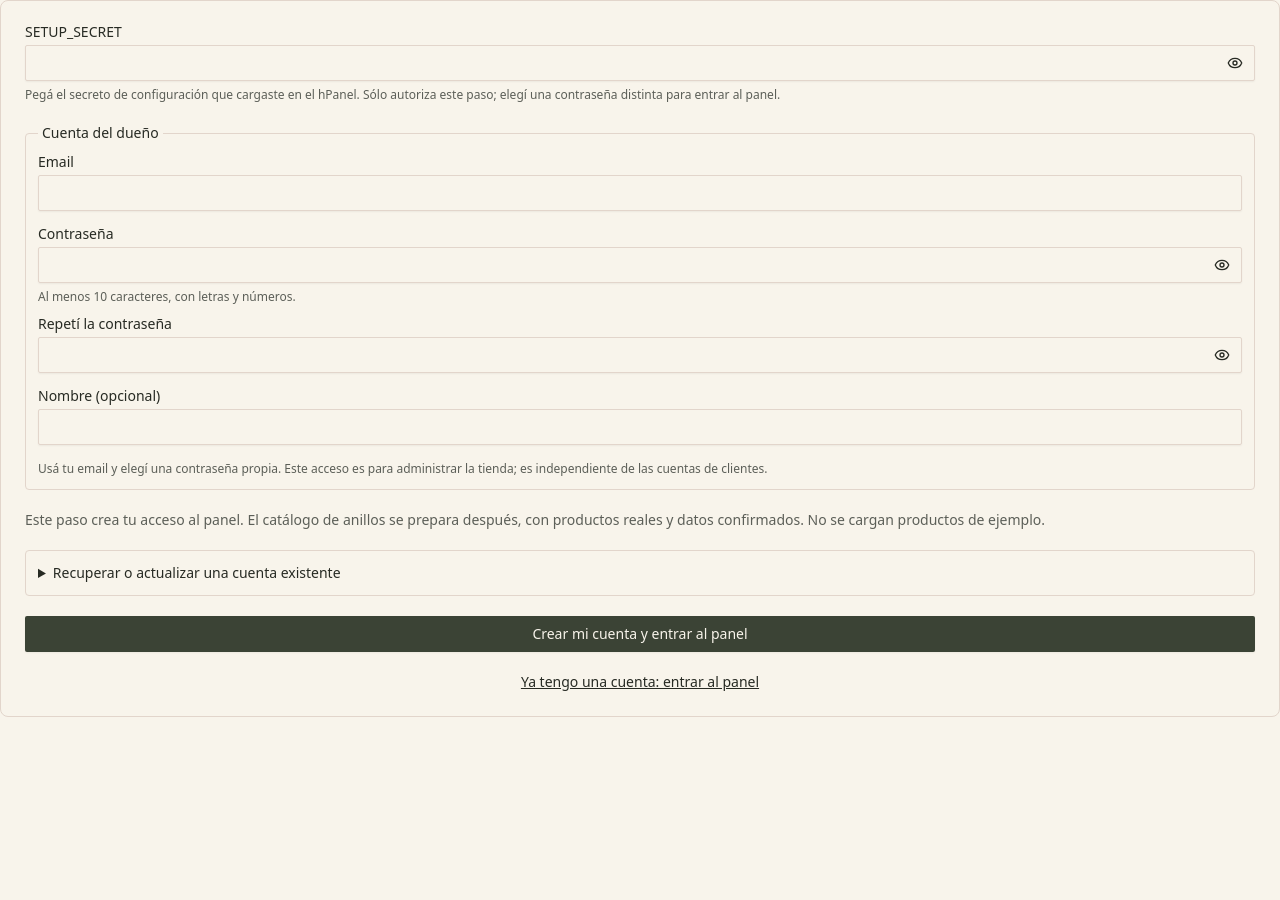
setup › never signs in after a rejected or unconfirmed setup ({"error":"unauthorized"})
The image size is (1280, 900).
Type "setup-secret-for-ui-test" into the password field labelled "SETUP_SECRET" at [640, 63], box [25,45,1255,81]
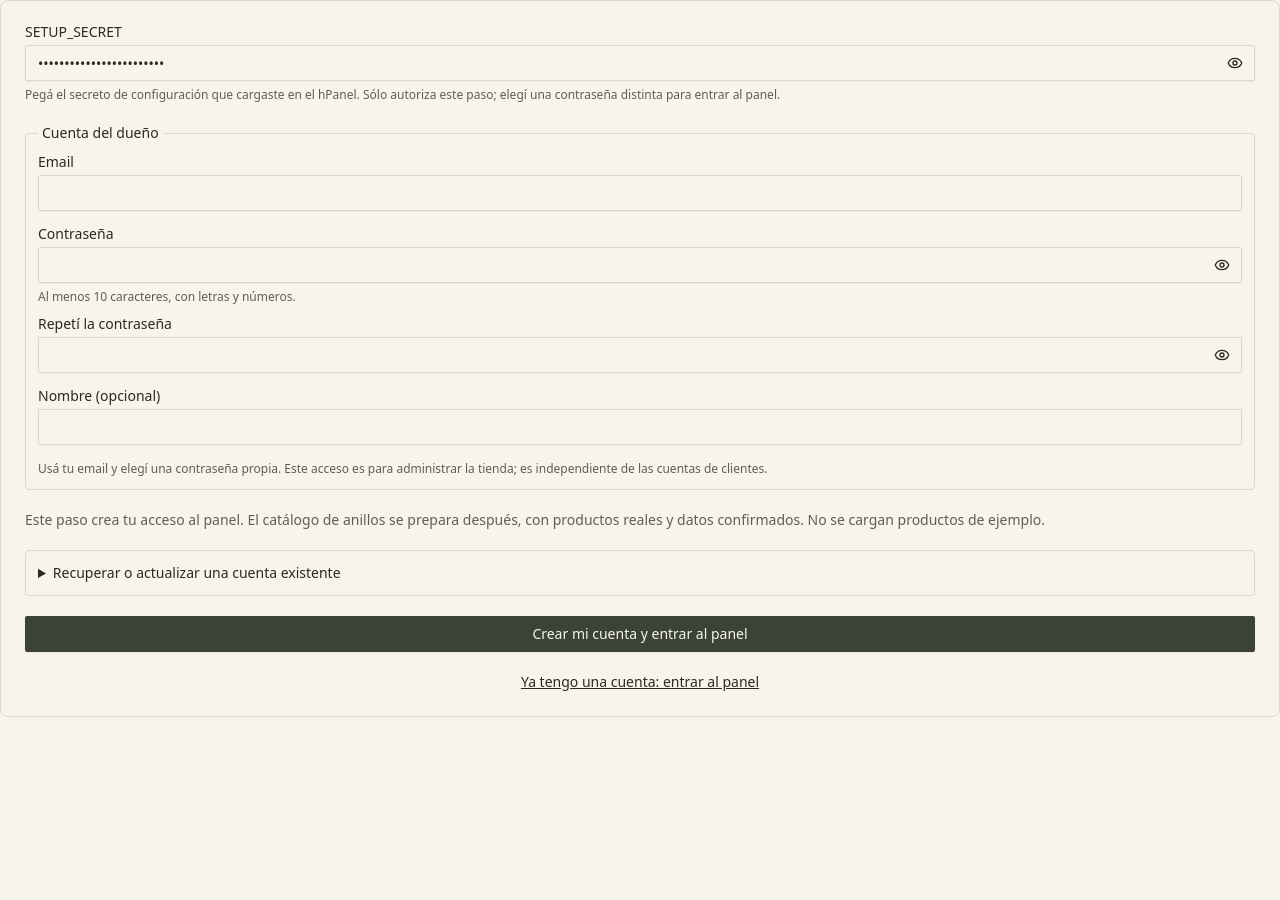
Type "owner@example.test" into the field labelled "Email" at [640, 193], box [38,175,1242,211]
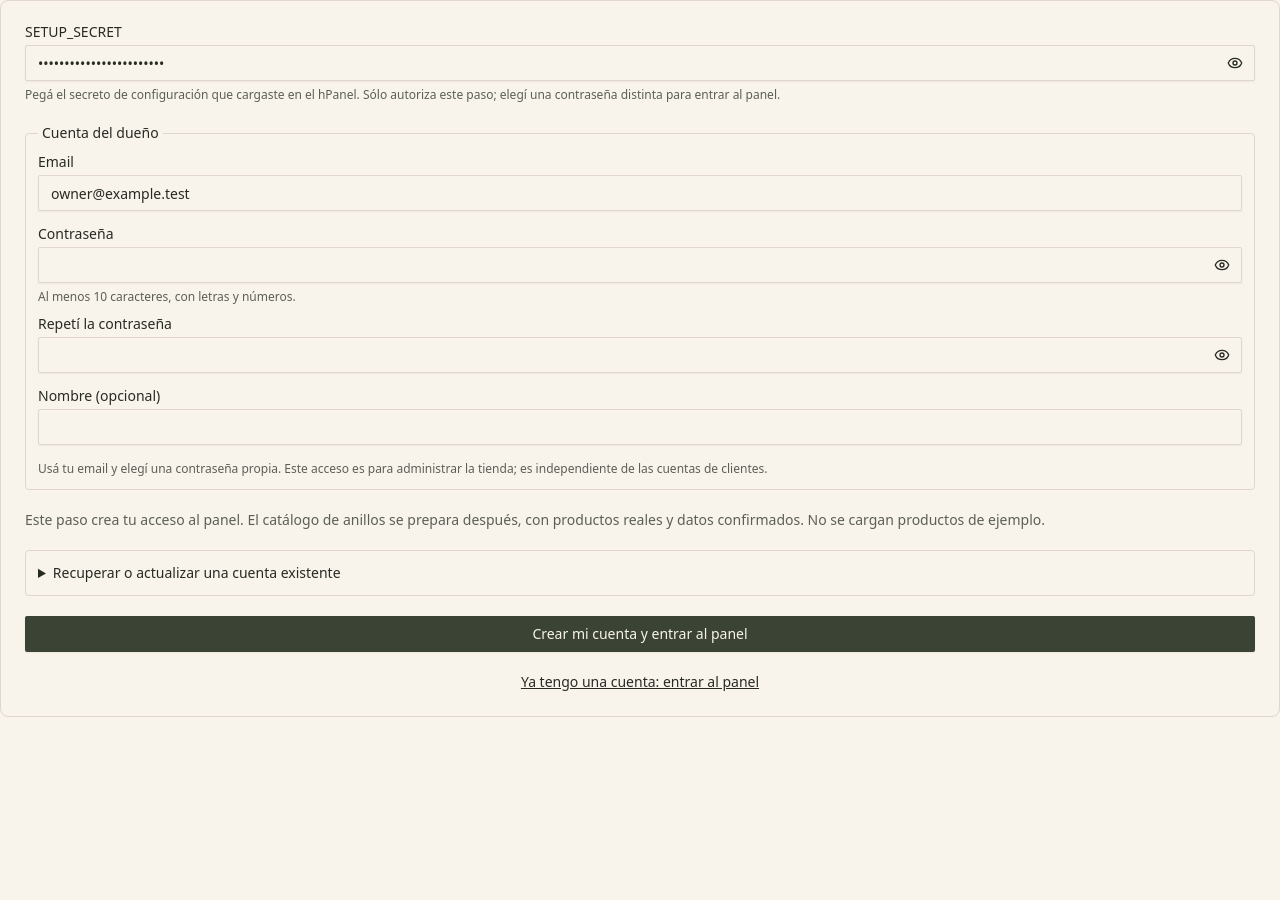
Type "Prueba-segura-2026" into the password field labelled "Contraseña" at [640, 265], box [38,247,1242,283]
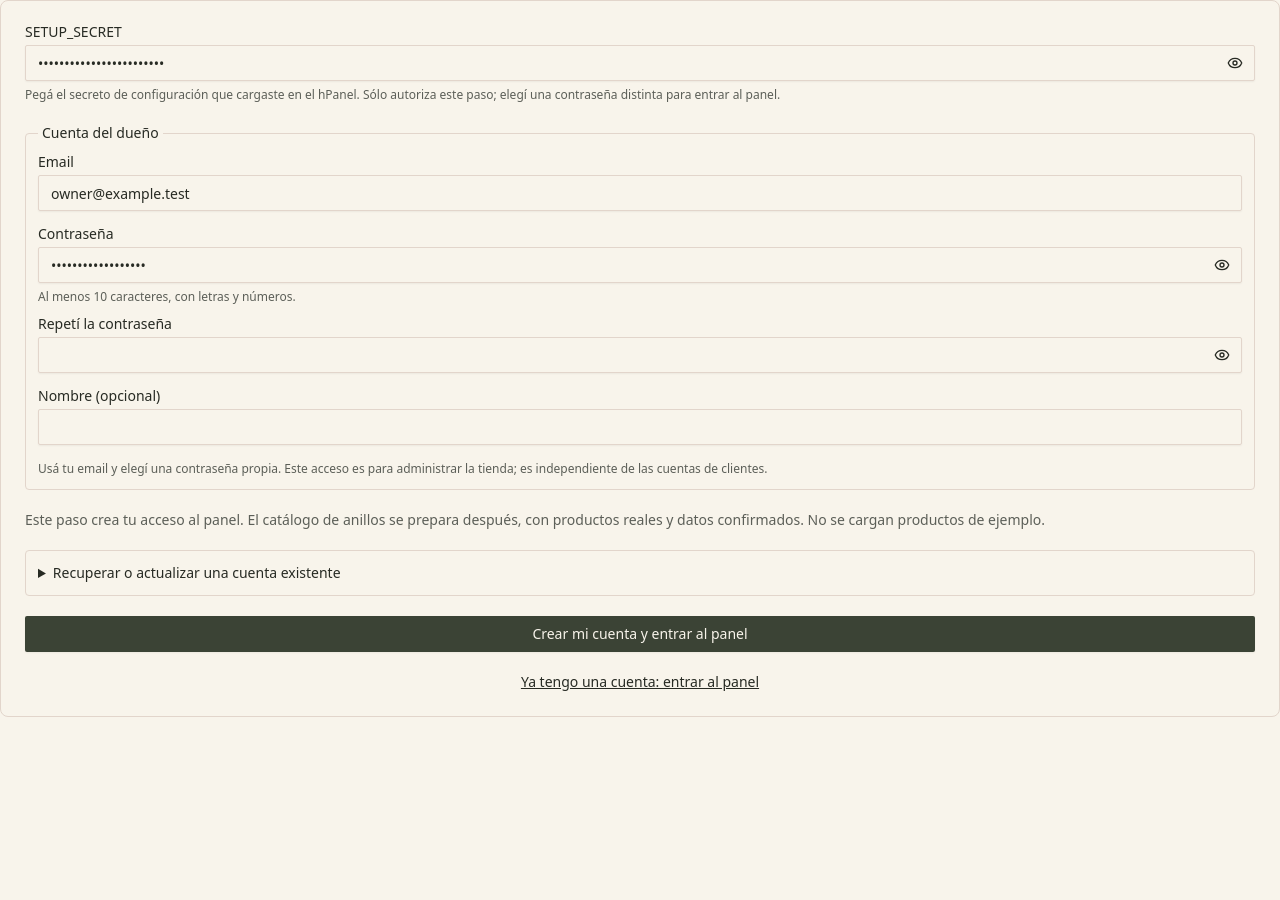
Type "Prueba-segura-2026" into the password field labelled "Repetí la contraseña" at [640, 355], box [38,337,1242,373]
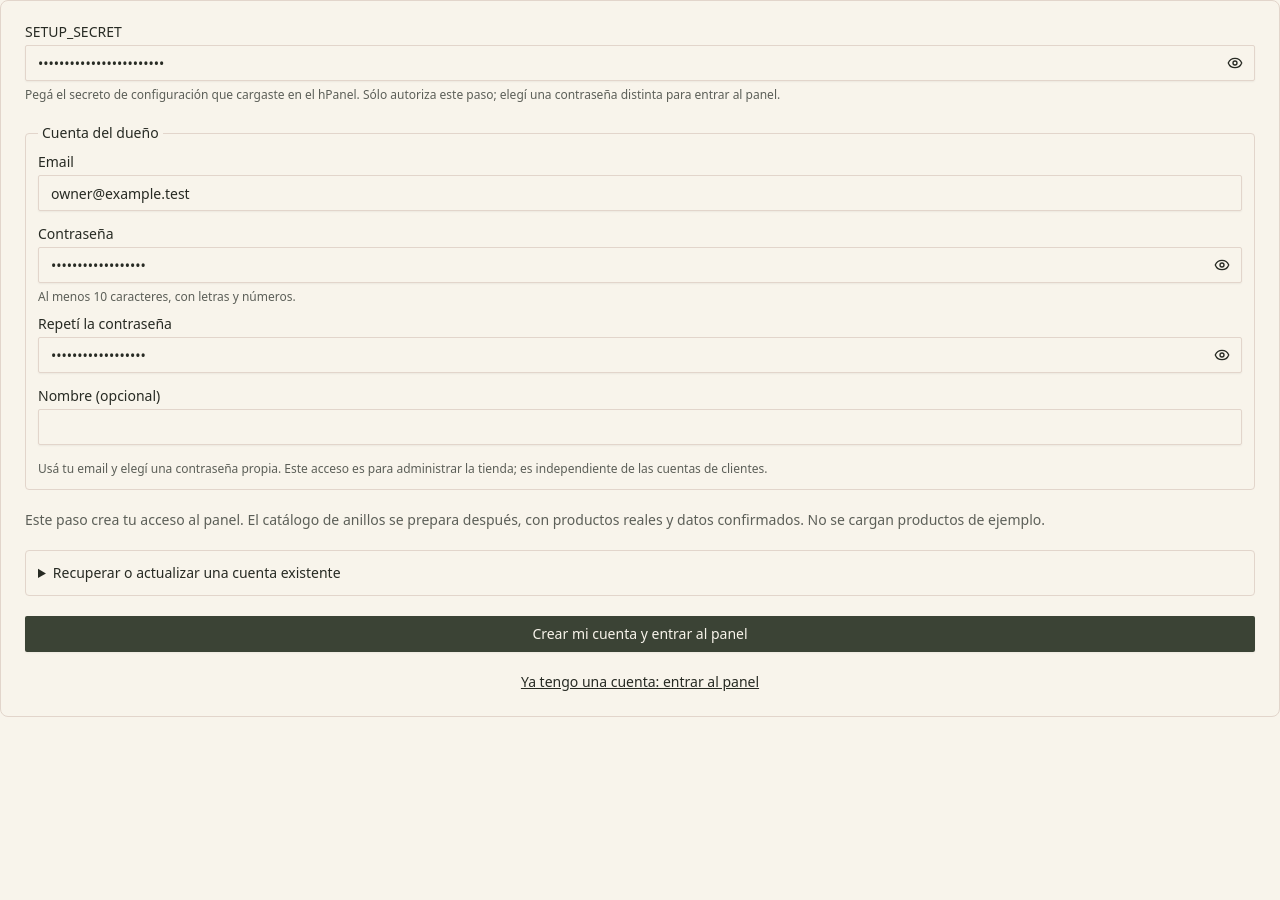
Submit the form
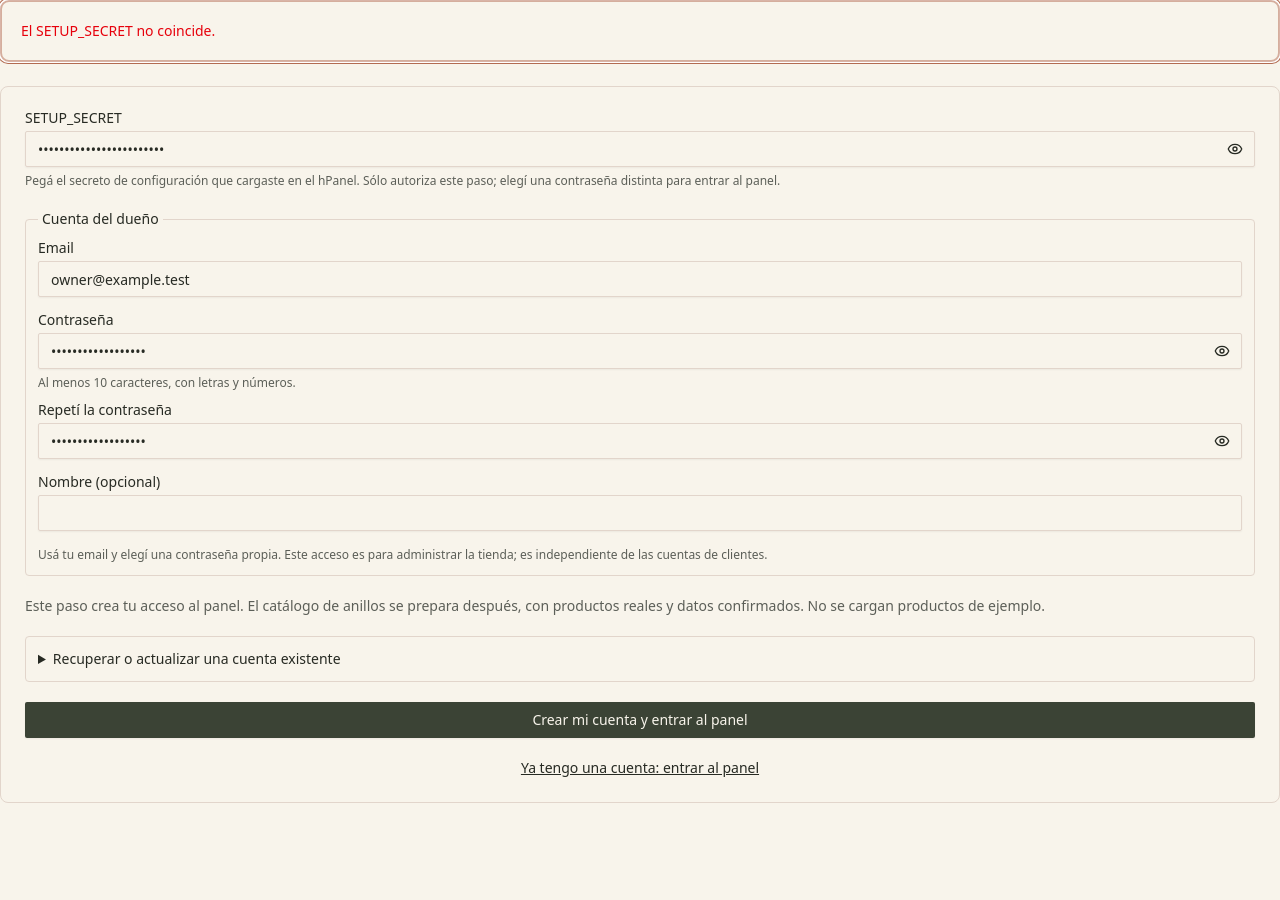
Result: the message "El SETUP_SECRET no coincide." is shown at [0,0,1279,62]
